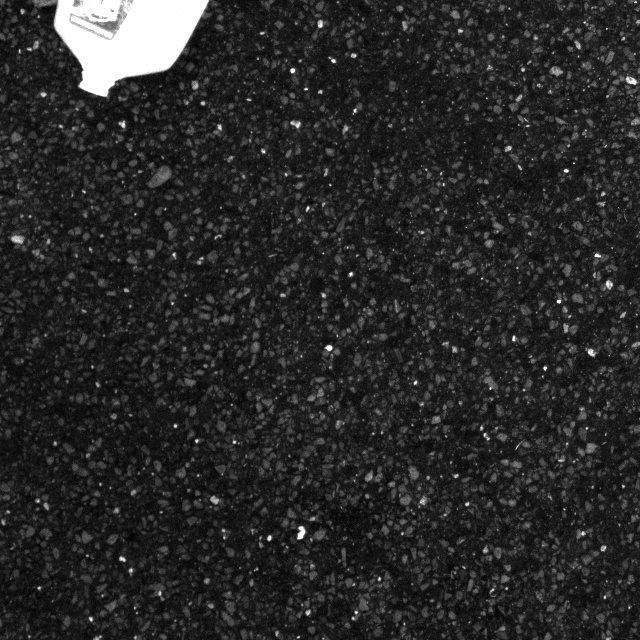can: (58, 0, 216, 105)
